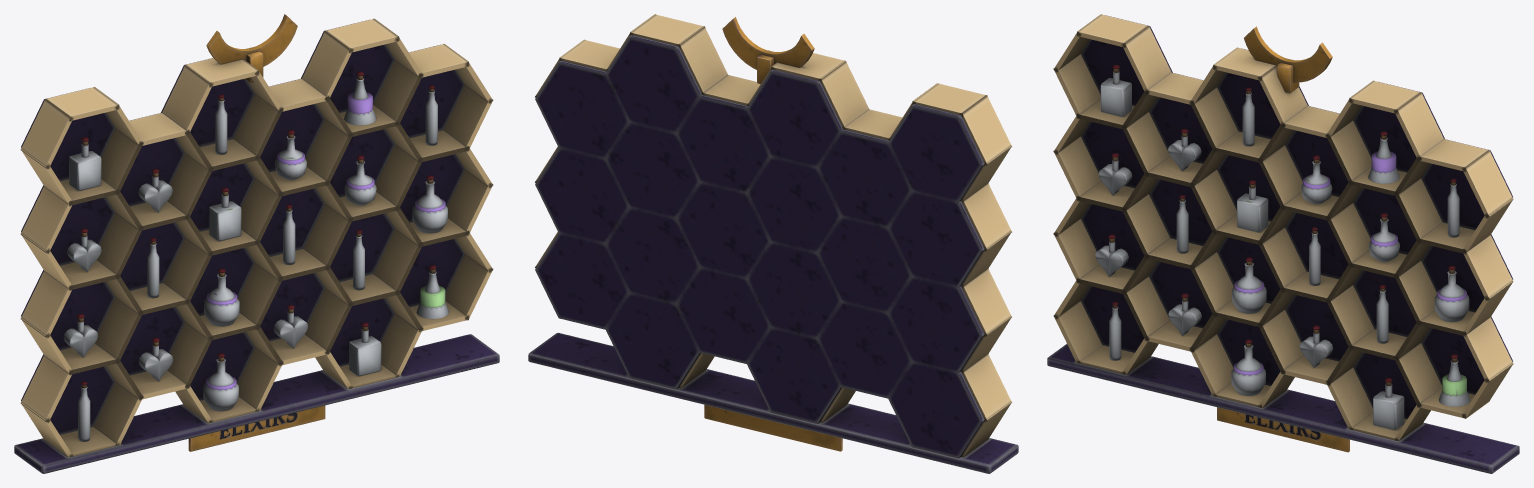
Rendered from PotionHoneycomb.fbx.
3 views of the same model, side by side, from view 1: azimuth 30°, elevation 25°; view 2: azimuth 150°, elevation 25°; view 3: azimuth 330°, elevation 25° (orthographic). The views are drawn at different scales.
Parts seen in each view (by area): view 1: PotionHoneycomb_Main, PotionHoneycomb_Glass, PotionHoneycomb_Glow; view 2: PotionHoneycomb_Main; view 3: PotionHoneycomb_Main, PotionHoneycomb_Glass, PotionHoneycomb_Glow.
Part boxes in pixels (<box>): PotionHoneycomb_Main: <box>14,14,499,473</box>; PotionHoneycomb_Glass: <box>63,78,448,441</box>; PotionHoneycomb_Glow: <box>206,92,445,390</box>; PotionHoneycomb_Main: <box>528,14,1018,473</box>; PotionHoneycomb_Main: <box>1047,14,1519,473</box>; PotionHoneycomb_Glass: <box>1095,71,1470,430</box>; PotionHoneycomb_Glow: <box>1233,151,1466,375</box>.
Size of the model in its own units: 540 by 460 by 60.
